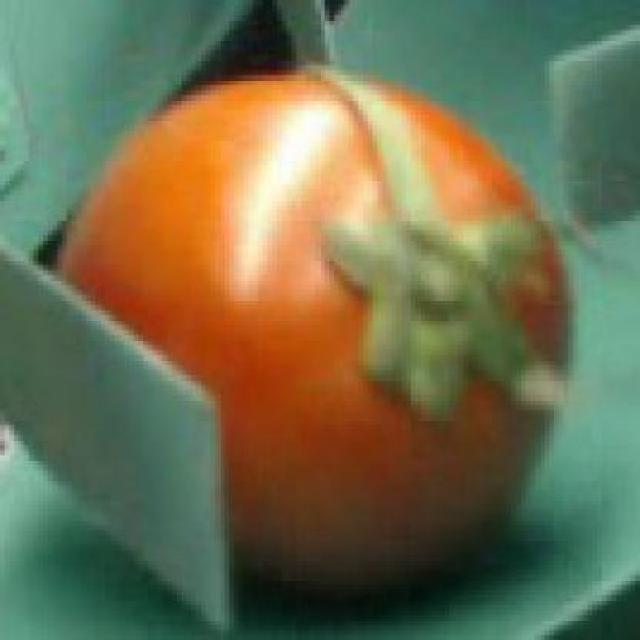tomato: (53, 73, 572, 594)
